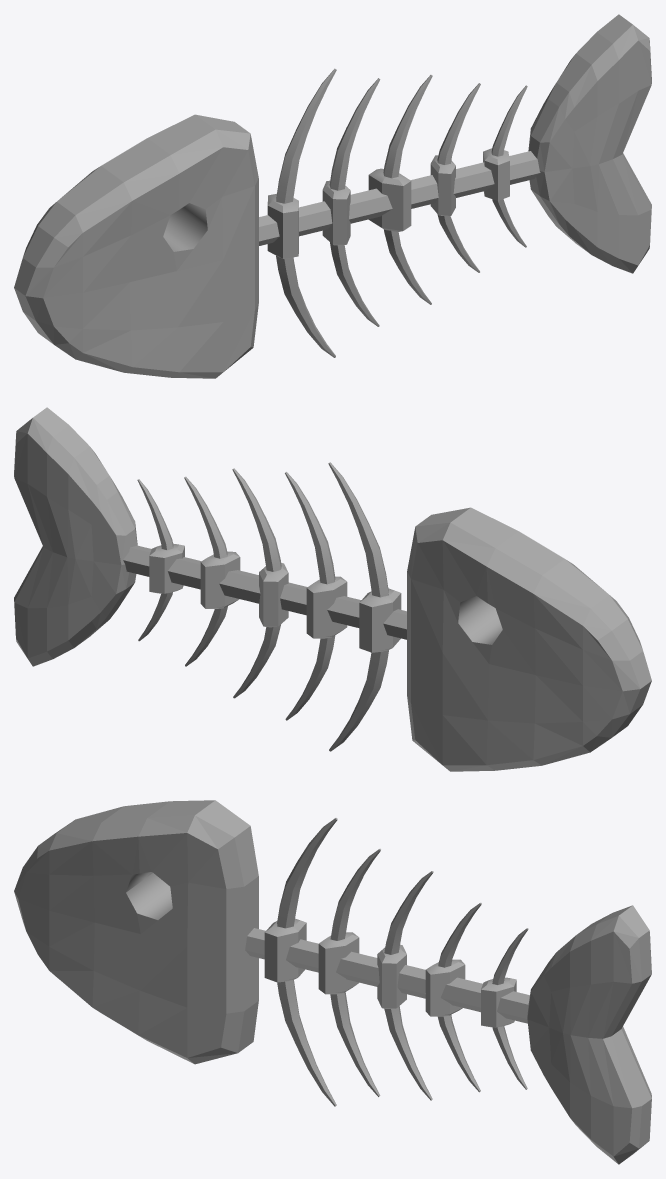
The model's file is Fish.FBX.
3 views of the same model, one above another, from view 1: azimuth 30°, elevation 25°; view 2: azimuth 150°, elevation 25°; view 3: azimuth 330°, elevation 25° (orthographic).
Visible parts, largest first — view 1: Fish; view 2: Fish; view 3: Fish.
Part boxes in pixels (x1,y1,x2,y2): Fish: (14, 14, 651, 378); Fish: (14, 407, 651, 771); Fish: (14, 800, 651, 1164).
Size of the model in its own units: 76.15 by 8.61 by 33.54.
